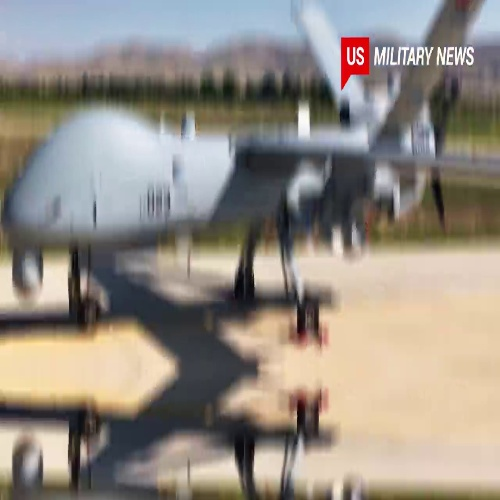uav458: (1, 1, 498, 341)
